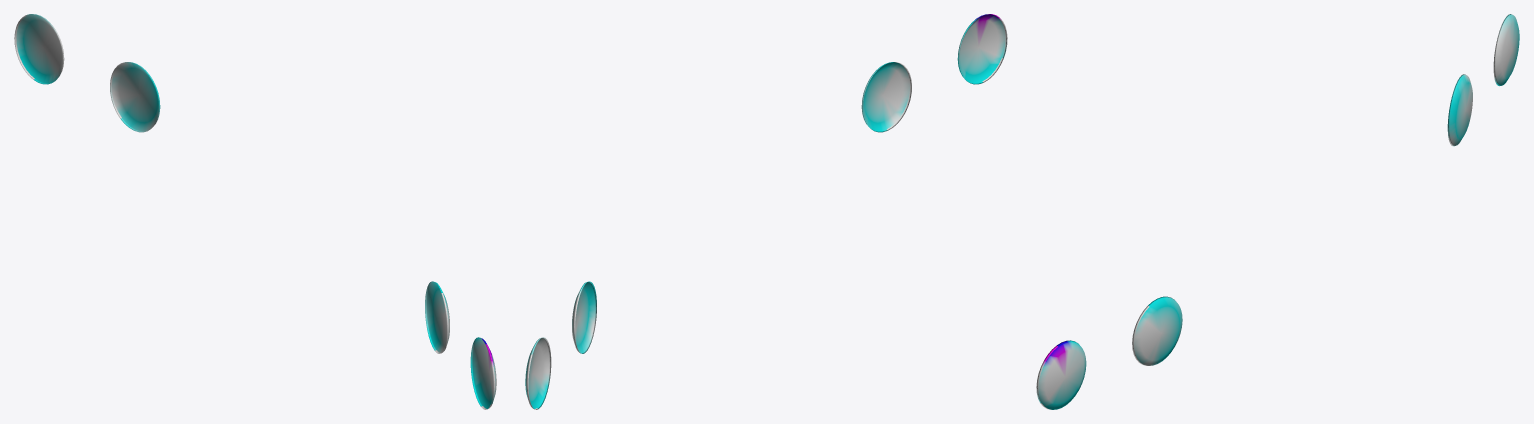
The model's file is SM_ext_endwall_lights_01.fbx.
The picture shows the model from 3 angles, left to right: view 1: azimuth 30°, elevation 25°; view 2: azimuth 150°, elevation 25°; view 3: azimuth 330°, elevation 25°; orthographic projection.
Visible parts, largest first — view 1: SM_ext_endwall_lights_01; view 2: SM_ext_endwall_lights_01; view 3: SM_ext_endwall_lights_01.
Boxes of the visible parts, x1,y1,x2,y2 form: SM_ext_endwall_lights_01: (14,14,496,409); SM_ext_endwall_lights_01: (525,14,1007,409); SM_ext_endwall_lights_01: (1036,14,1519,409).
Bounding box in the file's own units: 13.1 × 262 × 20.58.
